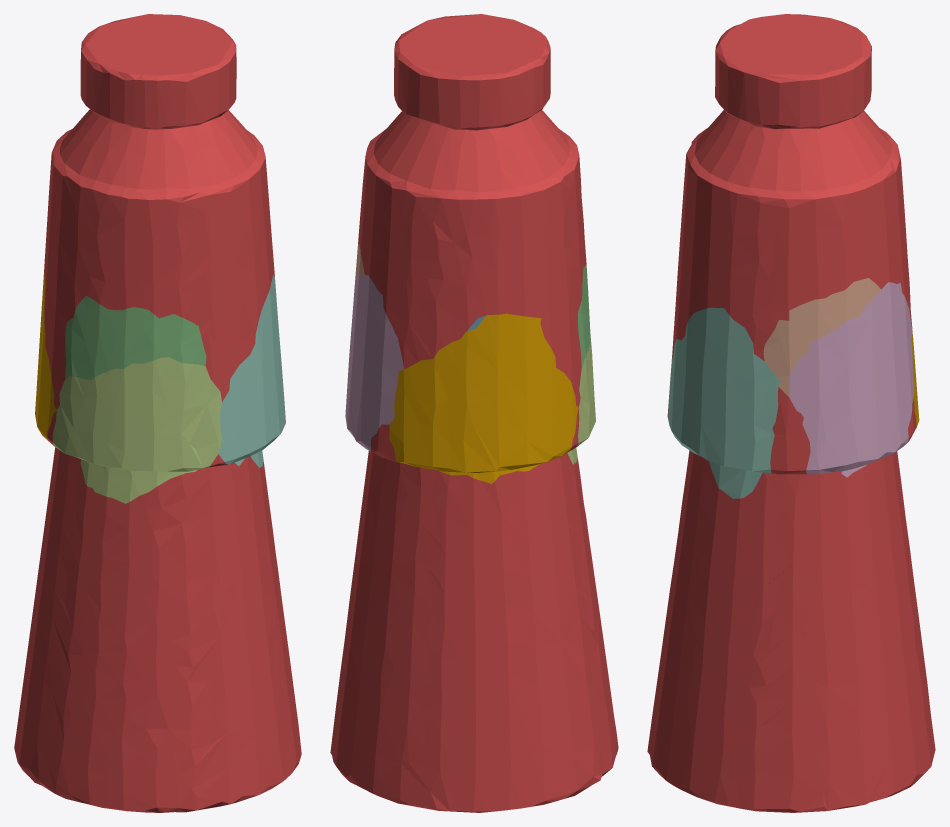
File: mode_19_8pcs.glb
3 views of the same model, side by side, from view 1: azimuth 30°, elevation 25°; view 2: azimuth 150°, elevation 25°; view 3: azimuth 270°, elevation 25° (orthographic).
Visible parts, largest first — view 1: piece_1.obj, piece_4.obj, piece_2.obj, piece_3.obj, piece_0.obj; view 2: piece_1.obj, piece_0.obj, piece_5.obj, piece_4.obj, piece_2.obj; view 3: piece_1.obj, piece_5.obj, piece_3.obj, piece_7.obj.
Part boxes in pixels (x1,y1,x2,y2): piece_1.obj: (14, 14, 301, 812); piece_4.obj: (52, 357, 222, 503); piece_2.obj: (65, 295, 206, 380); piece_3.obj: (218, 275, 285, 467); piece_0.obj: (35, 271, 56, 440); piece_1.obj: (330, 14, 618, 812); piece_0.obj: (389, 313, 578, 483); piece_5.obj: (345, 274, 403, 451); piece_4.obj: (567, 338, 595, 464); piece_2.obj: (578, 264, 590, 367); piece_1.obj: (647, 14, 935, 812); piece_5.obj: (788, 282, 914, 477); piece_3.obj: (668, 307, 780, 498); piece_7.obj: (763, 278, 880, 396).
Bounding box in the file's own units: 0.3678 × 1 × 0.3677.
